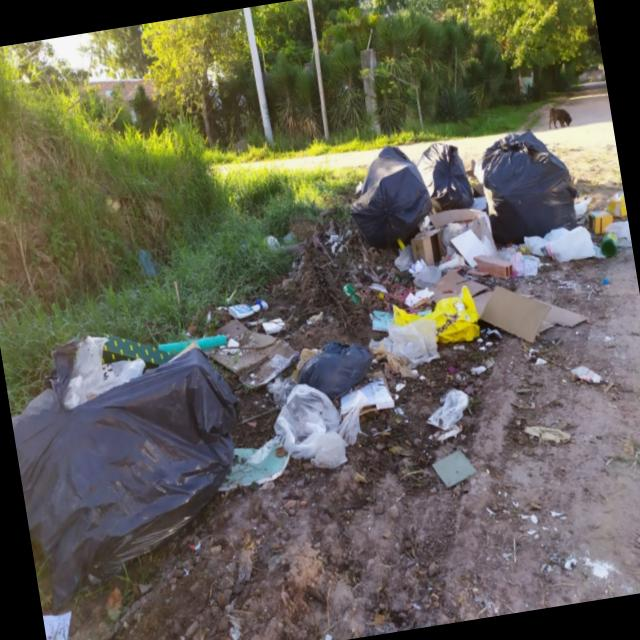garbage: (9, 294, 383, 578), (328, 92, 633, 396)
